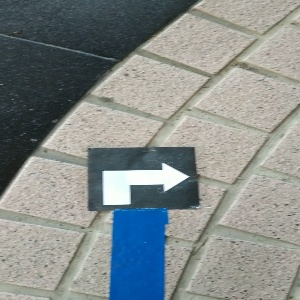right: (87, 147, 200, 208)
